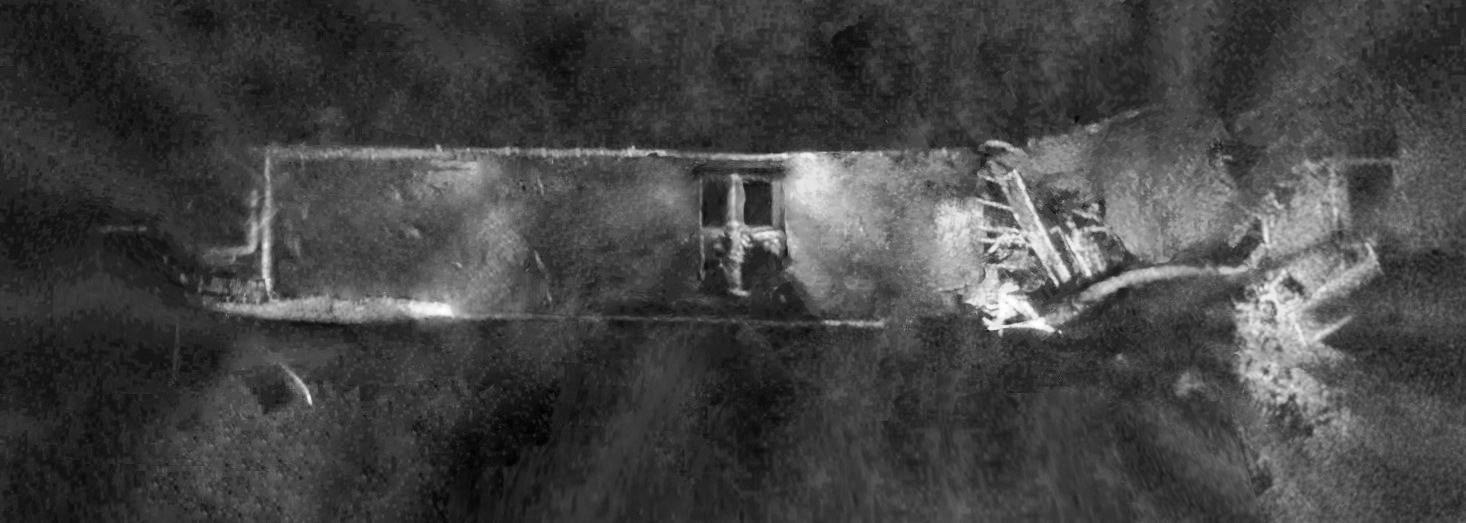ship: (249, 90, 1265, 338)
